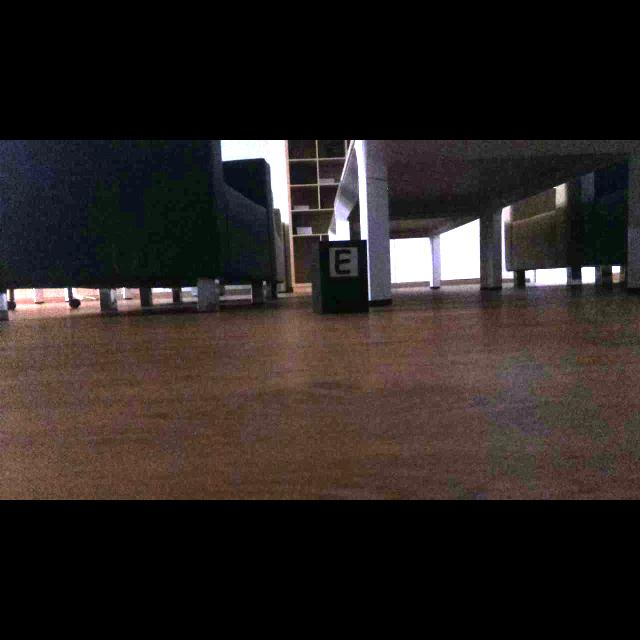E: (332, 245, 355, 276)
